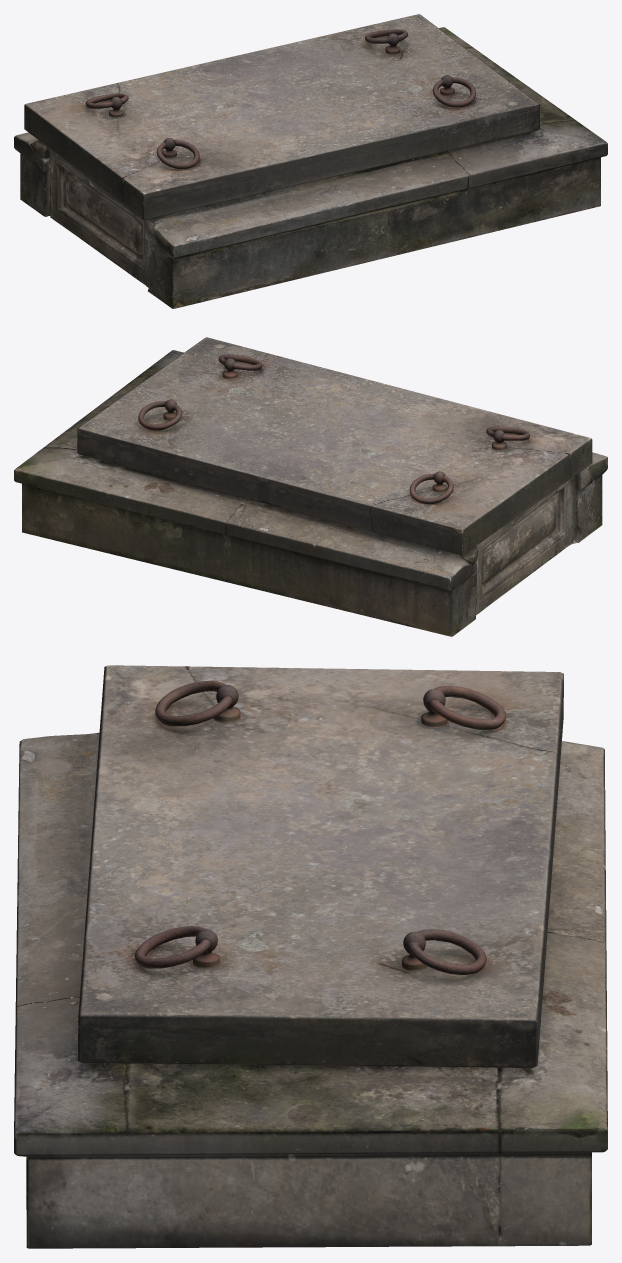
The model's file is sm_Grave_06_01.fbx.
3 views of the same model, one above another, from view 1: azimuth 30°, elevation 25°; view 2: azimuth 150°, elevation 25°; view 3: azimuth 270°, elevation 25° (orthographic). The views are drawn at different scales.
Visible parts, largest first — view 1: sm_Grave_06_01_LOD0; view 2: sm_Grave_06_01_LOD0; view 3: sm_Grave_06_01_LOD0.
Part boxes in pixels (x1,y1,x2,y2): sm_Grave_06_01_LOD0: [14, 14, 607, 308]; sm_Grave_06_01_LOD0: [14, 337, 607, 636]; sm_Grave_06_01_LOD0: [14, 665, 607, 1248].
Size of the model in its own units: 232 by 147 by 60.75.
